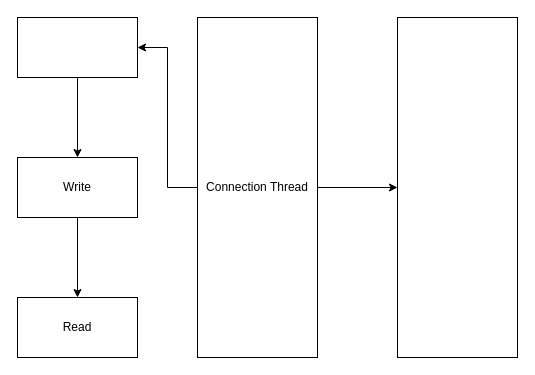
This 535x375 diagram has some shape labels left out. Here are the shapes that lost their labels. From the top down, the box of each, then its label:
(16, 16, 138, 78): CP
(396, 16, 518, 358): FILE
